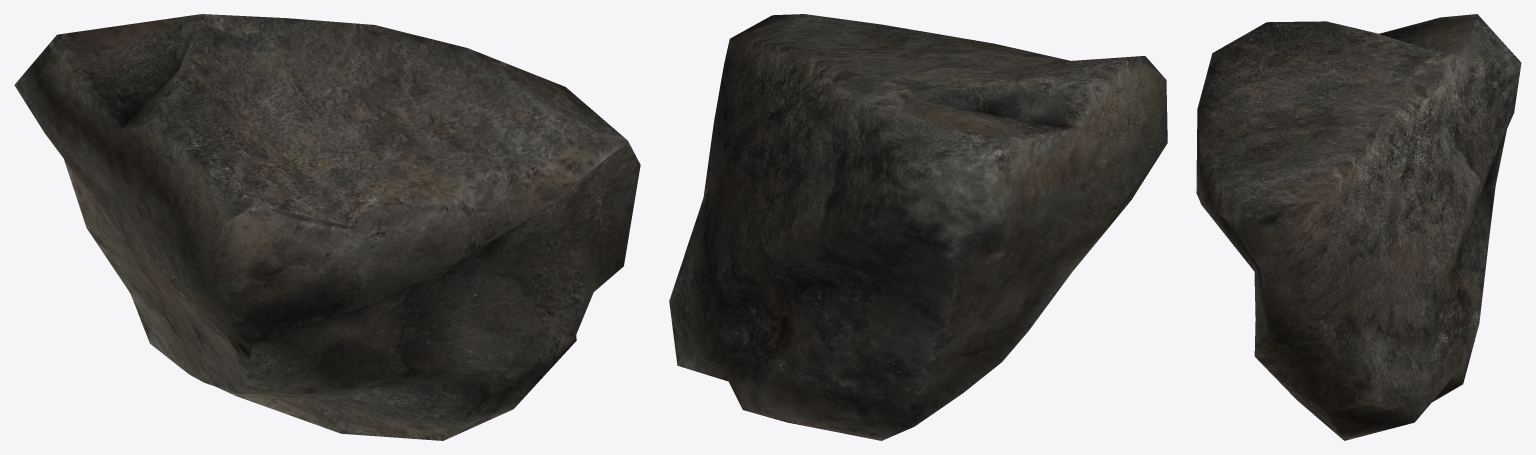
File: Rock1Complete.glb
3 renders of one model, left to right at view 1: azimuth 30°, elevation 25°; view 2: azimuth 150°, elevation 25°; view 3: azimuth 270°, elevation 25°, orthographic. The views are drawn at different scales.
Visible parts, largest first — view 1: Rock3UltraLowPoly; view 2: Rock3UltraLowPoly; view 3: Rock3UltraLowPoly.
Boxes of the visible parts, x1,y1,x2,y2 form: Rock3UltraLowPoly: (14, 14, 640, 440); Rock3UltraLowPoly: (669, 14, 1167, 440); Rock3UltraLowPoly: (1196, 14, 1521, 440).
Bounding box in the file's own units: 1.46 × 1.28 × 1.21.
Materials: 1 (1 with a texture image).
